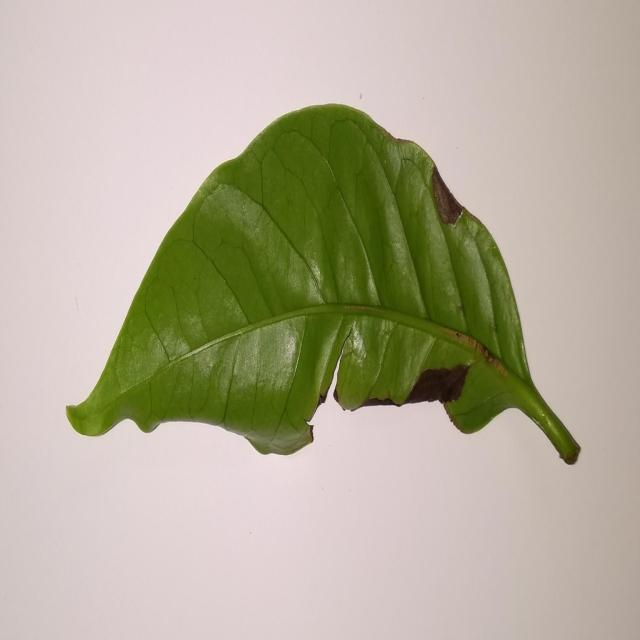Enfermedad-Antracnosis: (63, 108, 581, 466)
